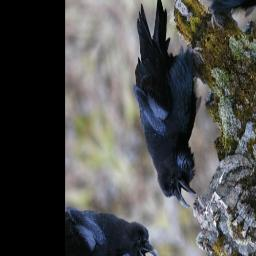Crow: (86, 0, 253, 220)
